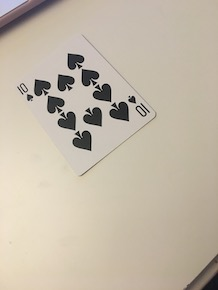TenOfSpades: (12, 32, 158, 180)
